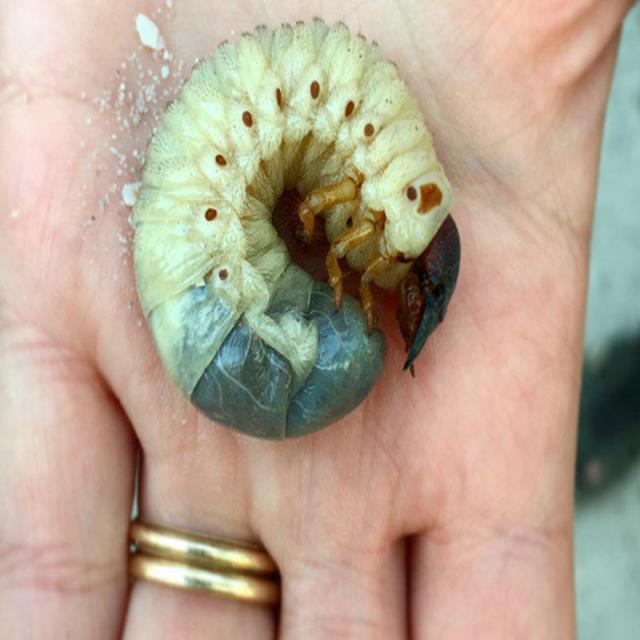Grub-Adult-: (124, 16, 464, 436)
